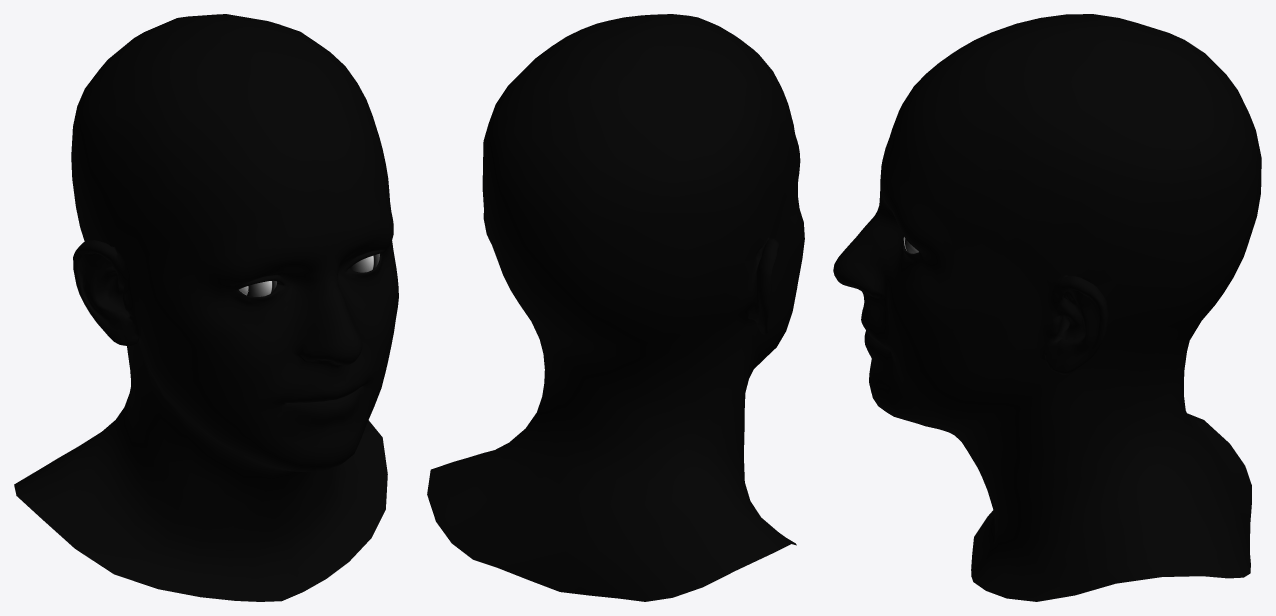
The picture shows the model from 3 angles, left to right: view 1: azimuth 30°, elevation 25°; view 2: azimuth 150°, elevation 25°; view 3: azimuth 270°, elevation 25°; orthographic projection. The views are drawn at different scales.
Visible parts, largest first — view 1: VultusFaceFlame; view 2: VultusFaceFlame; view 3: VultusFaceFlame.
Part boxes in pixels (x1,y1,x2,y2): VultusFaceFlame: [14, 14, 398, 601]; VultusFaceFlame: [427, 14, 804, 601]; VultusFaceFlame: [833, 14, 1261, 601].
Bounding box in the file's own units: 0.2176 × 0.3194 × 0.2283.
Materials: 2 (2 with a texture image).
